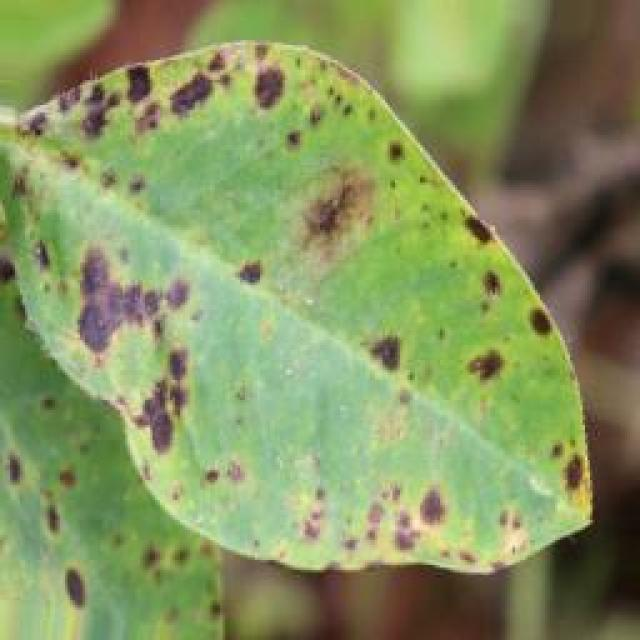Yellowish: (0, 58, 598, 636)
